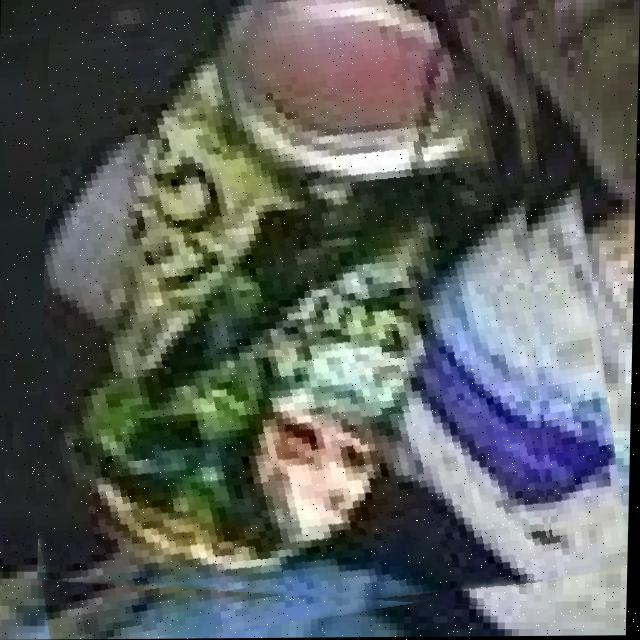litter: (40, 0, 526, 602)
